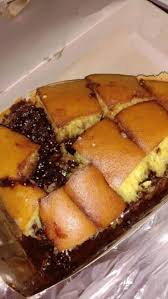Martabak manis: (63, 116, 156, 211), (57, 161, 134, 232), (31, 184, 99, 256), (35, 76, 106, 139), (81, 72, 154, 119), (1, 119, 43, 189), (2, 181, 49, 241)
